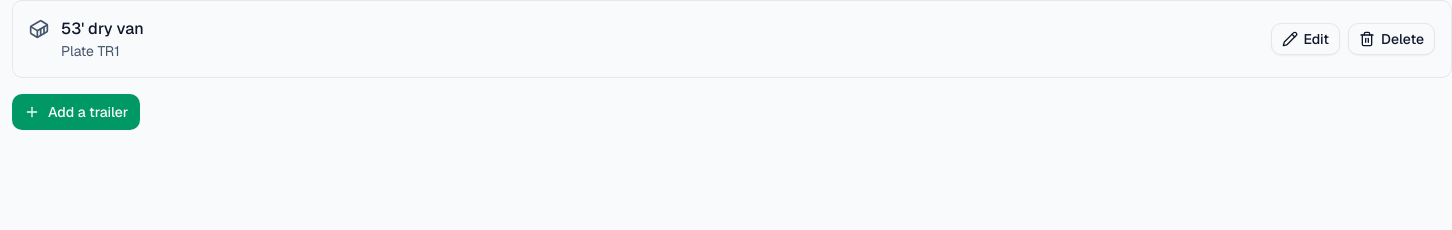
TrailerList › edits a trailer, clearing its name
This screenshot has width=1452, height=230.
Later steps or results of the test are not shown.
What coordinates should you click on to do the following:
click the button with aria-label "Edit 53' dry van"
I would click on:
 (1305, 39)
Its box is [1271,23,1340,55].
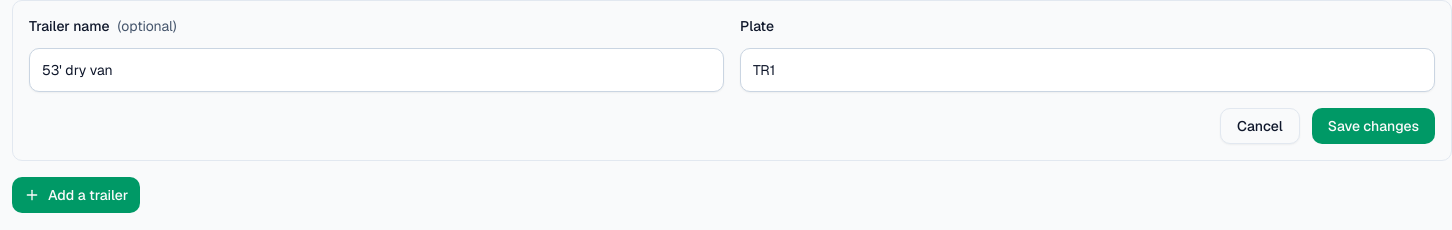
expect the field labelled "Trailer name (optional)" holds "53' dry van": met, box [29,48,724,92]
